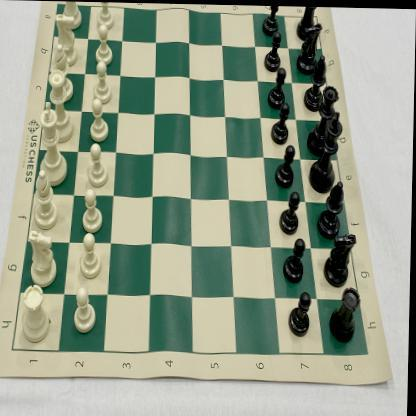black-bishop: (318, 179, 345, 237), (304, 53, 328, 111)
black-king: (308, 108, 344, 193)
black-knight: (325, 231, 358, 287), (297, 21, 322, 74)
black-pawn: (289, 290, 313, 336), (284, 237, 307, 280), (279, 191, 302, 234), (266, 66, 287, 108), (276, 144, 296, 187), (271, 102, 291, 144), (264, 30, 283, 71), (263, 5, 281, 35)
black-queen: (308, 82, 341, 154)
black-rook: (330, 285, 362, 340), (296, 5, 319, 40)
white-bishop: (32, 169, 60, 230), (51, 44, 74, 101)
white-king: (38, 101, 69, 187)
white-knight: (29, 229, 59, 288), (53, 12, 79, 67)
white-pawn: (74, 284, 98, 334), (85, 142, 110, 187), (80, 187, 105, 232), (80, 231, 103, 279), (88, 98, 110, 141), (92, 61, 112, 104), (93, 25, 114, 65), (94, 2, 114, 29)
white-queen: (47, 68, 76, 143)
white-rook: (20, 283, 52, 344), (59, 1, 83, 30)
